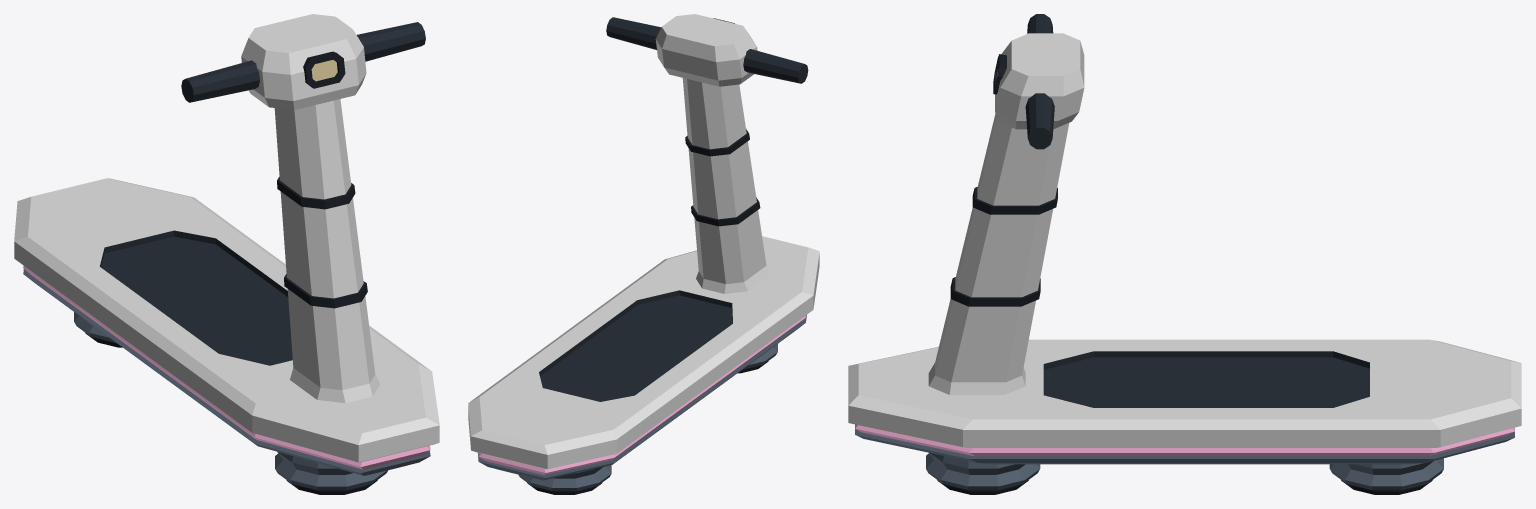
The model's file is hover-scooter-c9d027.glb.
3 renders of one model, left to right at view 1: azimuth 30°, elevation 25°; view 2: azimuth 150°, elevation 25°; view 3: azimuth 270°, elevation 25°, orthographic. The views are drawn at different scales.
Visible parts, largest first — view 1: hover-scooter, steer-column, pod-front, pod-rear; view 2: hover-scooter, steer-column, pod-rear; view 3: hover-scooter, steer-column, pod-front, pod-rear.
Boxes of the visible parts, x1=… form: hover-scooter: x1=14, y1=178, x2=439, y2=475; steer-column: x1=181, y1=14, x2=425, y2=402; pod-front: x1=275, y1=452, x2=387, y2=494; pod-rear: x1=74, y1=312, x2=122, y2=347; hover-scooter: x1=468, y1=236, x2=819, y2=480; steer-column: x1=606, y1=14, x2=808, y2=293; pod-rear: x1=518, y1=465, x2=611, y2=494; hover-scooter: x1=848, y1=339, x2=1521, y2=464; steer-column: x1=928, y1=14, x2=1084, y2=394; pod-front: x1=926, y1=453, x2=1040, y2=494; pod-rear: x1=1329, y1=458, x2=1443, y2=494.
Size of the model in its own units: 0.8 by 1.4 by 2.
